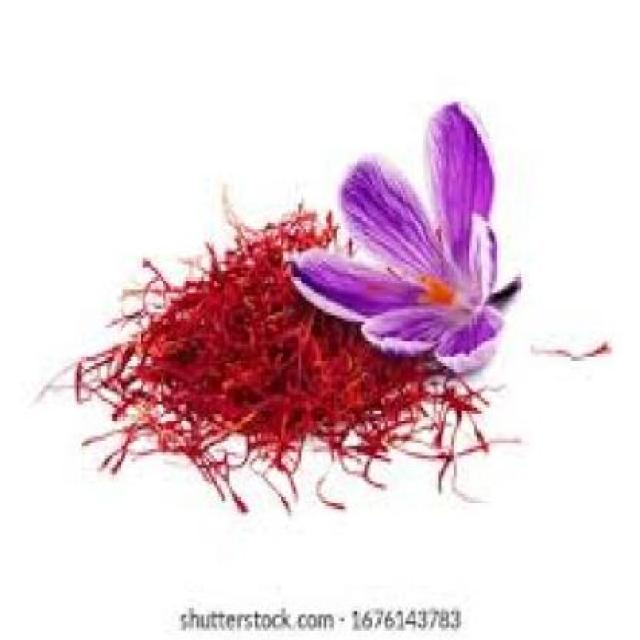saffron open: (294, 102, 520, 372)
